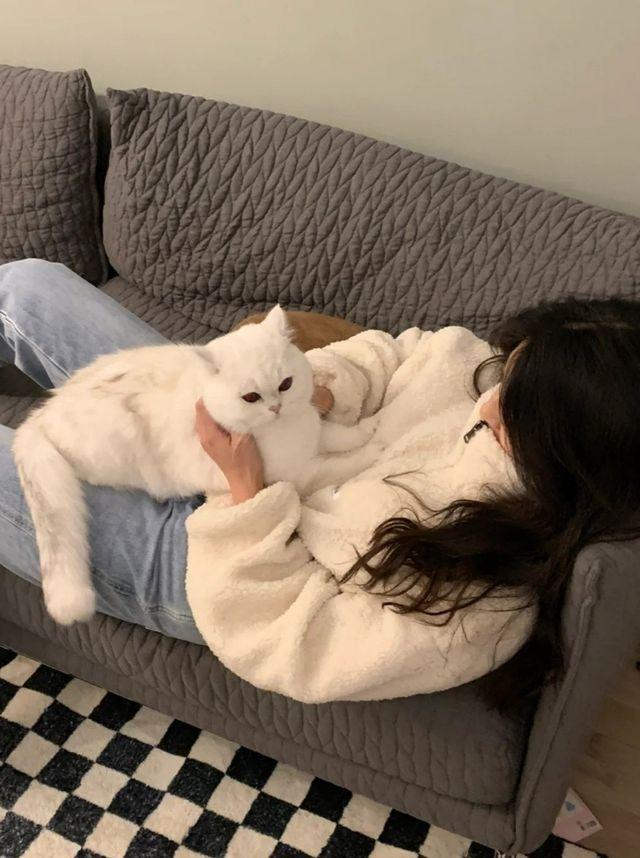kedo: (17, 305, 319, 618)
